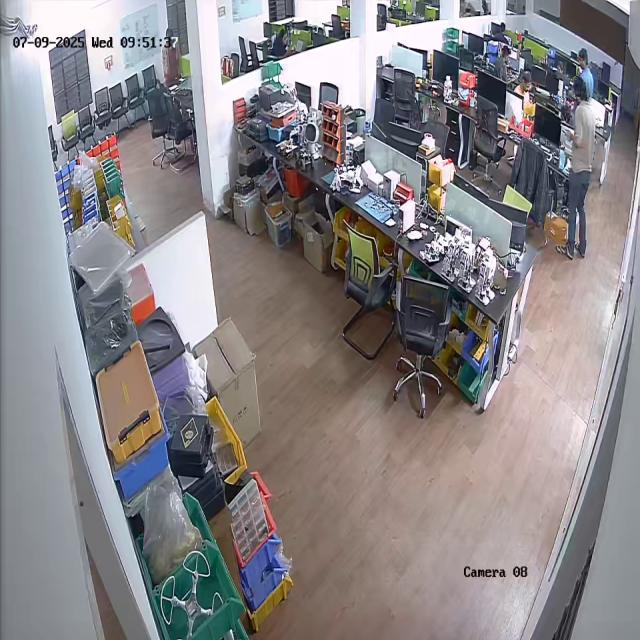person: (555, 77, 595, 261)
